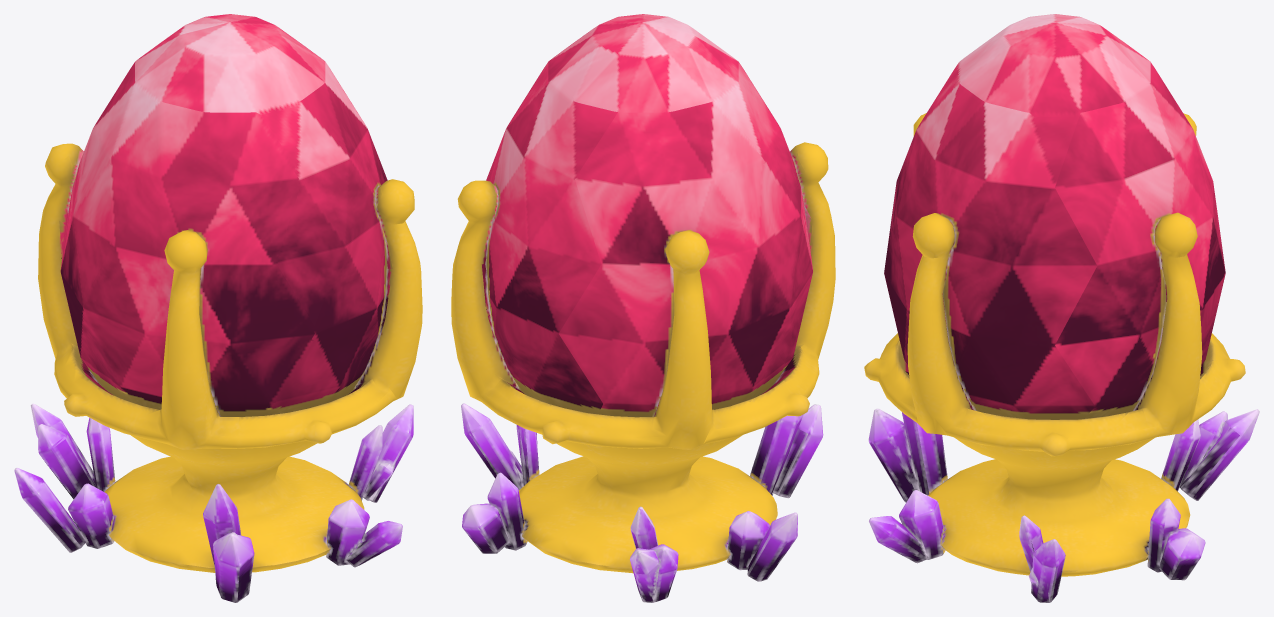
File: OeufMythique.glb
3 views of the same model, side by side, from view 1: azimuth 30°, elevation 25°; view 2: azimuth 150°, elevation 25°; view 3: azimuth 270°, elevation 25° (orthographic).
Visible parts, largest first — view 1: OeufMythique; view 2: OeufMythique; view 3: OeufMythique.
Part boxes in pixels (x1,y1,x2,y2): OeufMythique: [14, 14, 422, 602]; OeufMythique: [451, 14, 835, 602]; OeufMythique: [864, 14, 1259, 602].
Bounding box in the file's own units: 3.26 × 4.33 × 3.02.
Materials: 1 (1 with a texture image).
